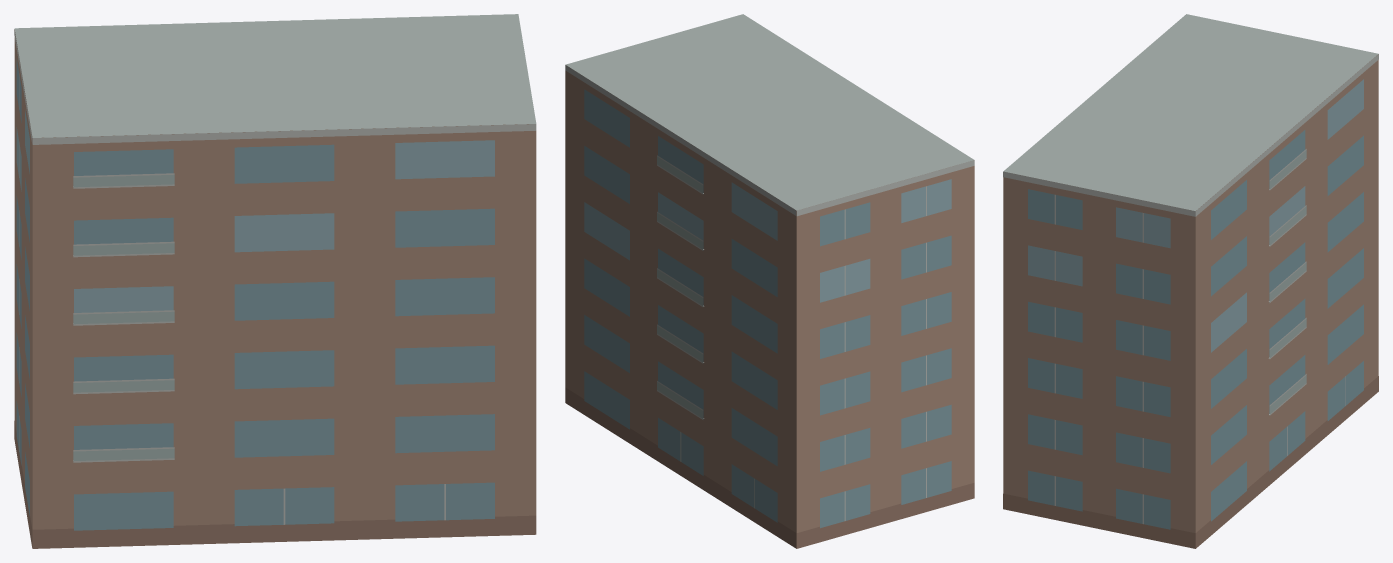
The model's file is survey-upis-32893100.glb.
The picture shows the model from 3 angles, left to right: view 1: azimuth 30°, elevation 25°; view 2: azimuth 150°, elevation 25°; view 3: azimuth 270°, elevation 25°; orthographic projection. The views are drawn at different scales.
Parts seen in each view (by area): view 1: survey-upis-32893100.tmp; view 2: survey-upis-32893100.tmp; view 3: survey-upis-32893100.tmp.
Boxes of the visible parts, x1,y1,x2,y2 form: survey-upis-32893100.tmp: (14, 14, 536, 548); survey-upis-32893100.tmp: (565, 14, 974, 548); survey-upis-32893100.tmp: (1003, 14, 1378, 548).
Size of the model in its own units: 18.04 by 14.4 by 14.52.
